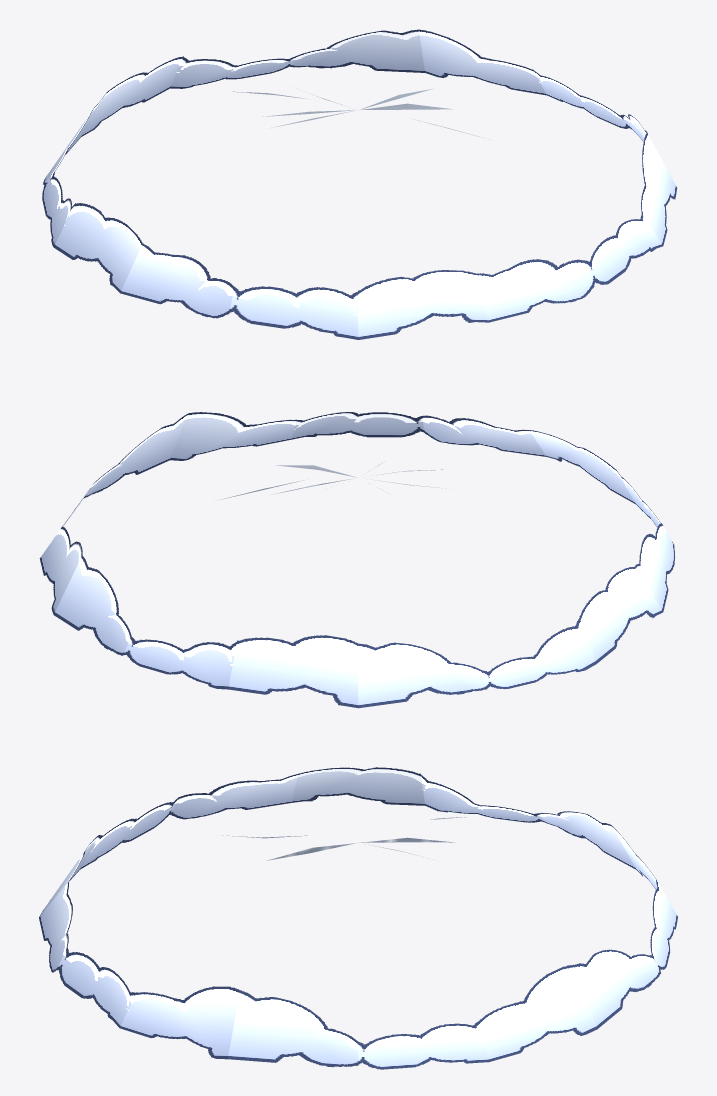
File: wx_snow.glb
The picture shows the model from 3 angles, top to bottom: view 1: azimuth 30°, elevation 25°; view 2: azimuth 150°, elevation 25°; view 3: azimuth 270°, elevation 25°; orthographic projection.
Visible parts, largest first — view 1: wx_snow_clouds, wx_snow_deck; view 2: wx_snow_clouds, wx_snow_deck; view 3: wx_snow_clouds, wx_snow_deck.
Part boxes in pixels (<box>): wx_snow_clouds: <box>42,29,677,339</box>; wx_snow_deck: <box>232,88,483,137</box>; wx_snow_clouds: <box>39,412,674,708</box>; wx_snow_deck: <box>218,463,449,500</box>; wx_snow_clouds: <box>39,767,677,1069</box>; wx_snow_deck: <box>222,817,466,860</box>.
Size of the model in its own units: 738 by 220 by 738.
Materials: 4 (4 with a texture image).
